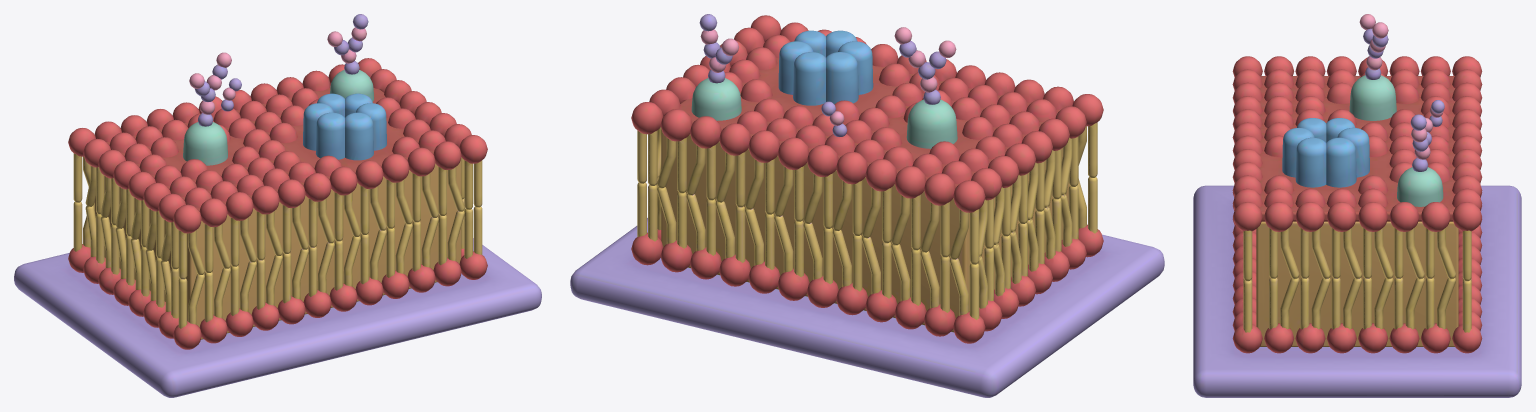
Rendered from grab3d_cell_membrane.glb.
3 views of the same model, side by side, from view 1: azimuth 30°, elevation 25°; view 2: azimuth 150°, elevation 25°; view 3: azimuth 270°, elevation 25° (orthographic). The views are drawn at different scales.
Parts seen in each view (by area): view 1: cell-membrane_body; view 2: cell-membrane_body; view 3: cell-membrane_body.
Boxes of the visible parts, box(x1,y1,x2,y2) form: cell-membrane_body: box(14, 14, 541, 397); cell-membrane_body: box(570, 14, 1164, 397); cell-membrane_body: box(1193, 14, 1521, 397).
Size of the model in its own units: 0.212 by 0.1331 by 0.152.
Materials: 1 (1 with a texture image).
